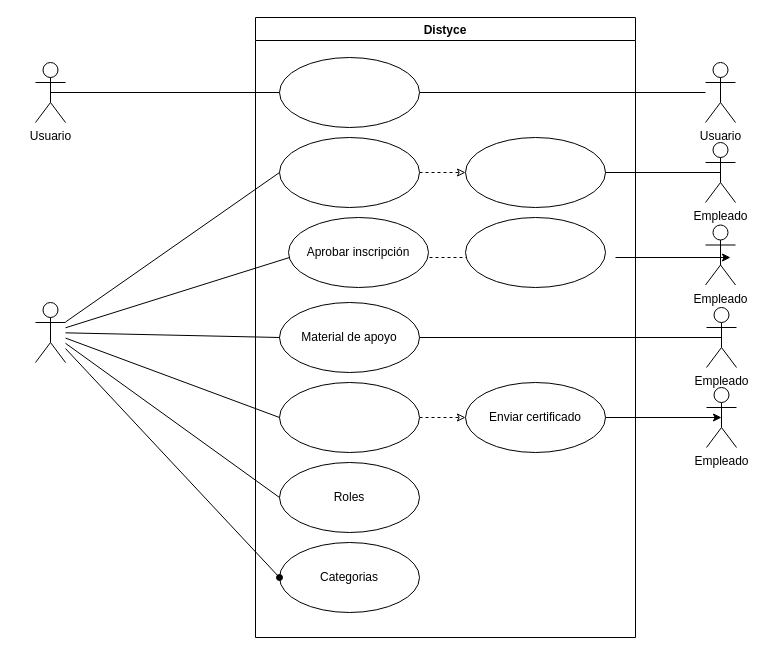
The diagram is 766 pixels wide and 655 high, and some of its shapes have lost their labels. Here are the shapes that lost their labels. From the top down, the centre of each, then its label:
(x=349, y=92): Inicio de sesión
(x=349, y=172): Añadir curso
(x=535, y=172): Catalogo de cursos
(x=535, y=252): Notificar inscripción
(x=50, y=332): Coordinador
(x=349, y=417): Validar certificación
